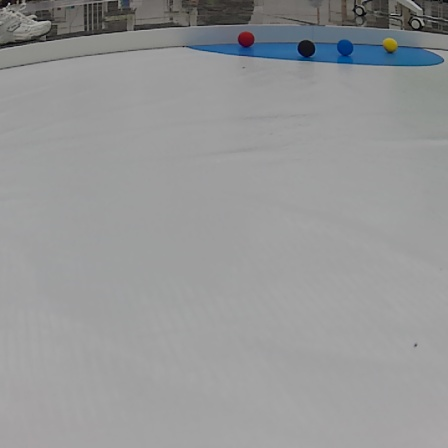black: (297, 41, 320, 59)
blue: (336, 37, 357, 57)
blue_base: (184, 43, 448, 66)
red: (237, 27, 254, 50)
yellow: (380, 36, 404, 57)
